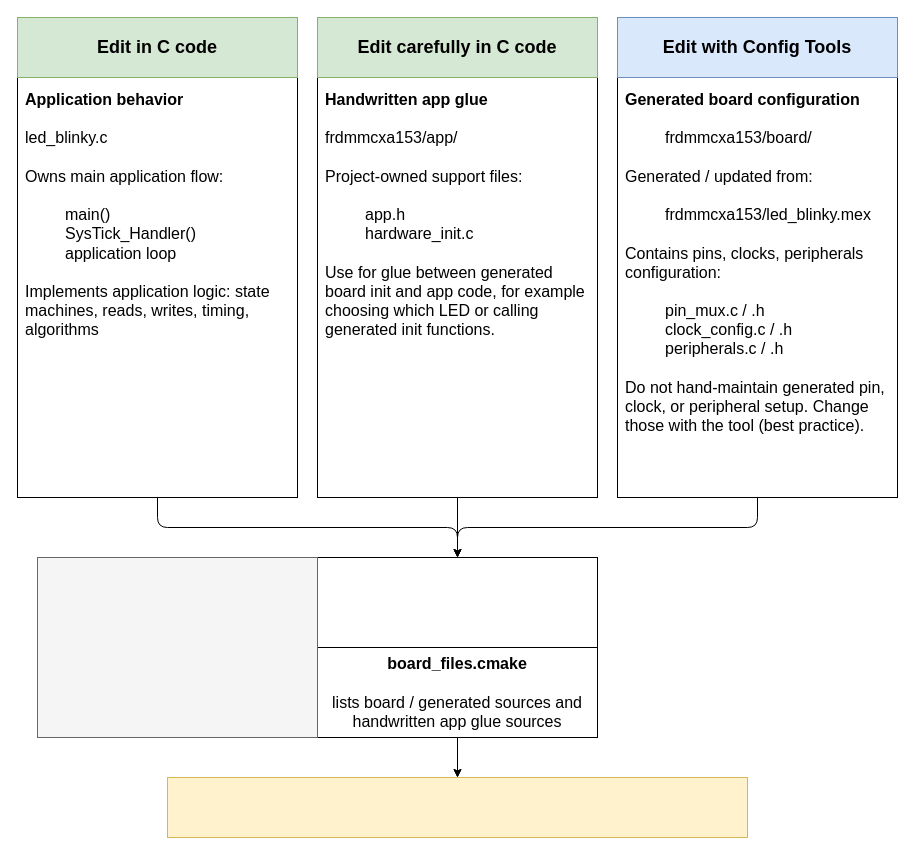
The diagram is 915 pixels wide and 855 high, and some of its shapes have lost their labels. The centre of each missing label's shape, as x and y in pixels:
"CMake registers what builds" goes at (x=177, y=647).
"CMakeLists.txt project target, SDK components, include paths" goes at (x=457, y=602).
"Compiler output: debug/*.elf, debug/*.bin" goes at (x=457, y=807).
